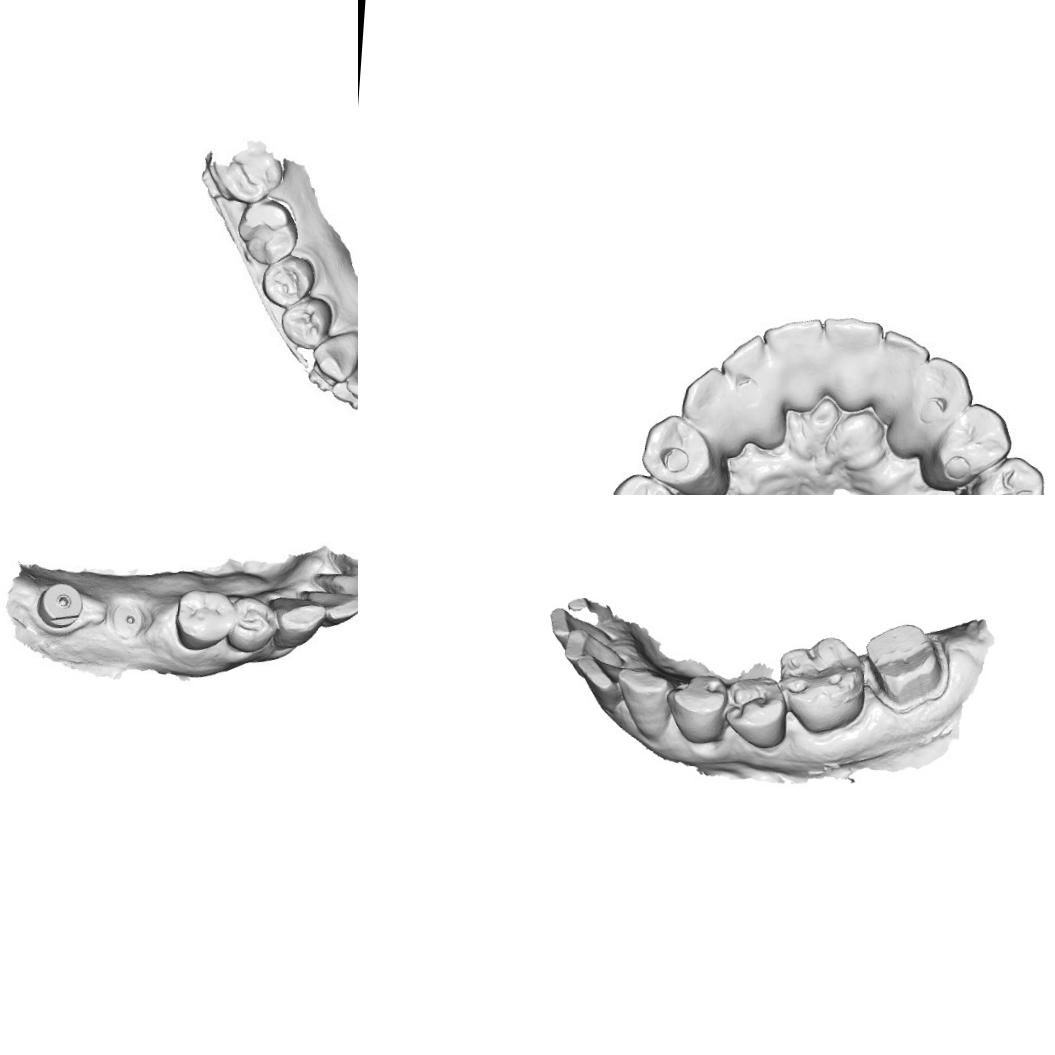canine: (615, 664, 672, 740), (682, 368, 742, 436), (266, 592, 324, 650), (916, 355, 971, 415), (309, 330, 358, 376)
crown: (859, 621, 958, 709)
implant: (38, 578, 84, 630), (106, 596, 152, 642)
incisor: (818, 316, 884, 382), (764, 314, 824, 375), (558, 621, 621, 674), (572, 648, 622, 714), (299, 582, 358, 631), (722, 336, 772, 392), (880, 330, 929, 386), (545, 604, 589, 648), (322, 568, 358, 601), (344, 347, 358, 403)
molar: (773, 629, 873, 737), (240, 196, 298, 262)
premolar: (929, 399, 1014, 480), (638, 416, 716, 488), (721, 670, 789, 750), (666, 671, 730, 748), (172, 586, 234, 649), (260, 254, 316, 306), (278, 297, 334, 347), (974, 455, 1039, 495), (230, 599, 276, 649), (611, 475, 685, 495)
